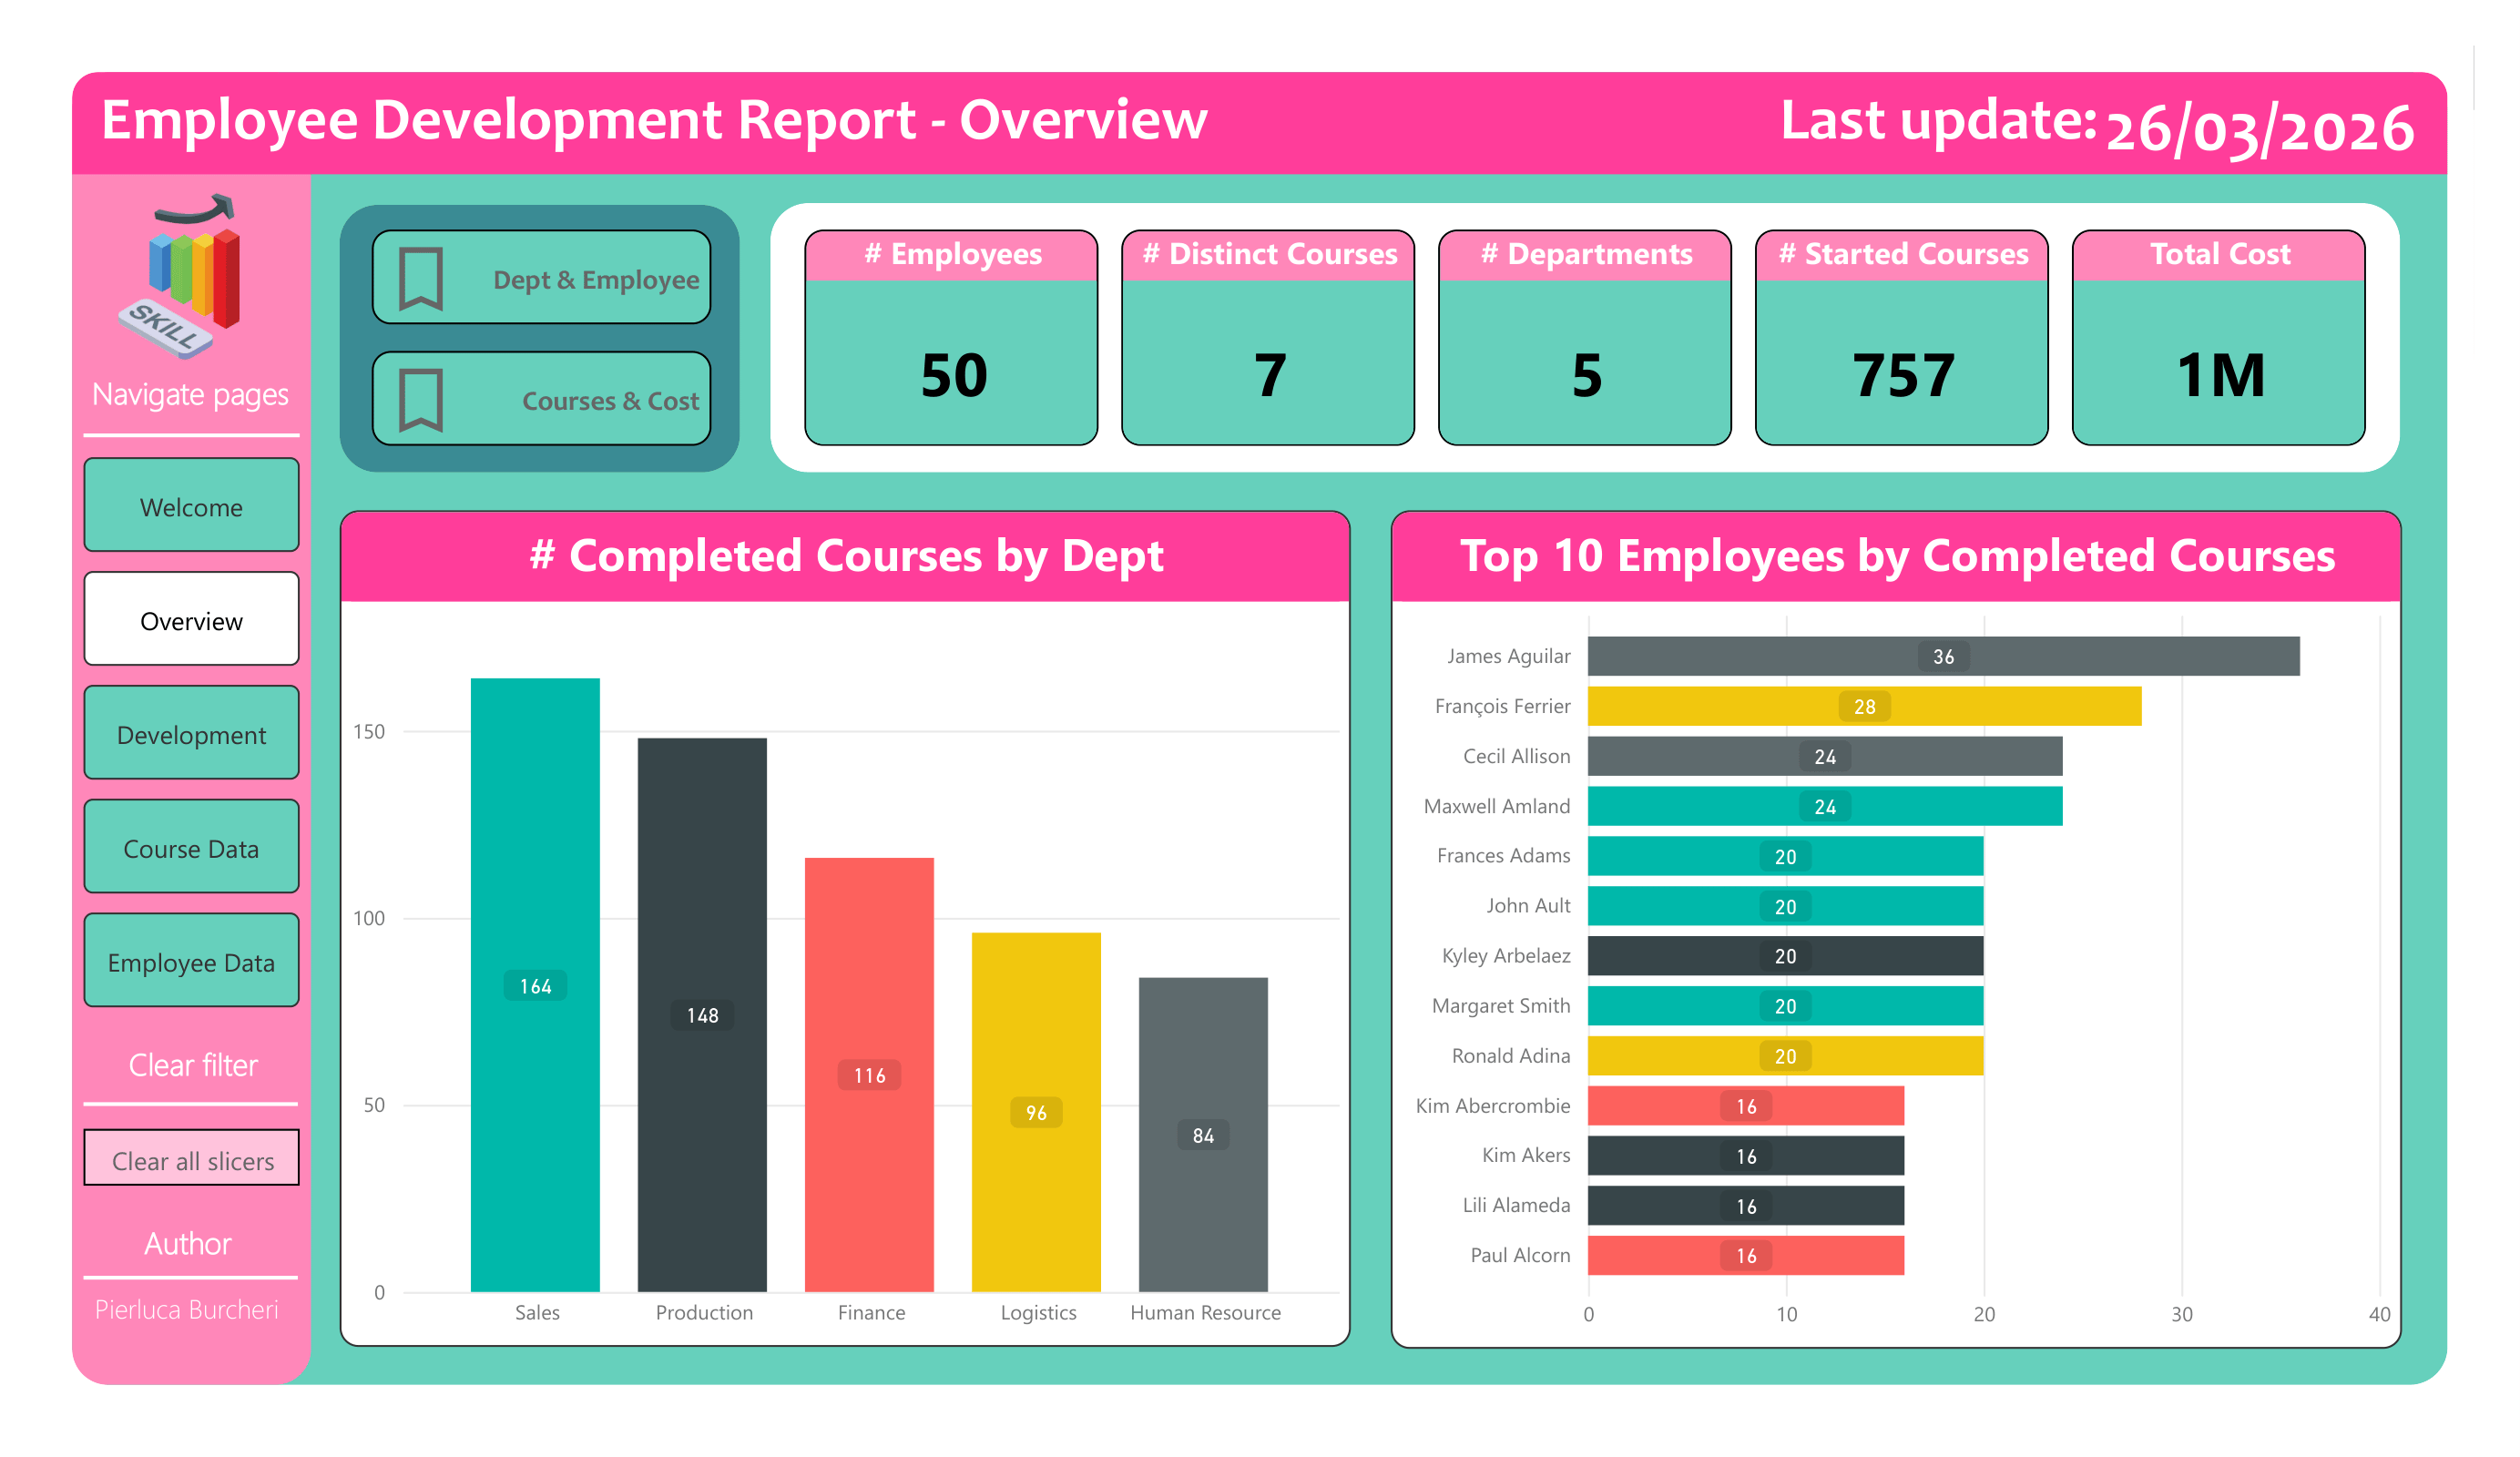

What the dashboard file says about the page in this screenshot:
{"tool":"powerbi","page":{"name":"Overview","canvas":[1280,720],"ordinal":1},"visuals":[{"type":"shape","box":[14.2,14.2,1252.2,691.5],"z":0},{"type":"shape","box":[14.2,14.2,126,691.5],"z":1000},{"type":"image","box":[0,67.7,140.2,107.1],"z":2000},{"type":"columnChart","title":"# Completed Courses by Dept","fields":{"Category":["Employee Data.Dept"],"Series":["Employee Data.Dept"],"Y":["_Measures.# Completed Courses"]},"box":[155.3,244.8,533,440.7],"z":3000},{"type":"shape","box":[14.2,14.2,1252.2,53.6],"z":4000},{"type":"textbox","box":[23.6,14.2,612.7,52],"z":5000},{"type":"pageNavigator","box":[20.5,217.4,113.4,289.8],"z":6000},{"type":"textbox","box":[7.9,167.4,137,31.5],"z":7000},{"type":"shape","box":[20.5,184.7,113.4,41],"z":8000},{"type":"shape","box":[381.9,82.5,859,142.7],"z":9000},{"type":"textbox","box":[909.4,14.2,222.8,52.7],"z":10000},{"type":"card","fields":{"Values":["_Date Master.TODAY"]},"box":[1077.5,14.2,180.3,52.7],"z":11000},{"type":"cardVisual","title":"# Employees","fields":{"Data":["Count(Employee Data.Employee)"]},"box":[399.6,96.8,155.4,114.2],"z":12000},{"type":"group","id":"g1","title":"Group 1","box":[20.5,614.8,113.4,71.9],"z":13000},{"type":"cardVisual","title":"# Distinct Courses","fields":{"Data":["_Measures.# Courses"]},"box":[566.6,96.8,155.4,114.2],"z":14000},{"type":"actionButton","box":[20.5,570.6,113.4,29.9],"z":15000},{"type":"cardVisual","title":"# Departments","fields":{"Data":["_Measures.# Depts"]},"box":[733.7,96.8,155.4,114.2],"z":16000},{"type":"shape","box":[20,537.6,113.4,40.5],"z":18000},{"type":"cardVisual","title":"# Started Courses","fields":{"Data":["_Measures.# Started Courses"]},"box":[900.8,96.8,155.4,114.2],"z":19000},{"type":"shape","box":[155.3,83.9,211,141.3],"z":20000},{"type":"cardVisual","title":"Total Cost","fields":{"Data":["_Measures.Total Cost"]},"box":[1067.8,96.8,155.4,114.2],"z":21000},{"type":"actionButton","box":[172.1,96.5,179.1,50.4],"z":22000},{"type":"actionButton","box":[172.1,160.9,179.1,50.4],"z":23000},{"type":"textbox","box":[7.9,521.4,139.7,38.5],"z":24000},{"type":"barChart","title":"Top 10 Employees by Completed Courses","fields":{"Category":["Employee Data.Employee Name"],"Series":["Employee Data.Dept"],"Y":["_Measures.# Completed Courses"]},"box":[708.9,245.1,532.7,441.5],"z":25000},{"type":"shape","box":[20.5,629,113.4,41],"z":25000,"group":"g1"},{"type":"textbox","box":[31.5,614.8,88.2,37.8],"z":26000,"group":"g1"},{"type":"textbox","box":[20.5,650.5,108.7,36.2],"z":27000,"group":"g1"}]}

Visuals, with their boxes on the page's 1280x720 design canvas (x1, y1, x2, y2). These are canvas units, not pixel positions in the 2520x1457 screenshot, which may show the page scaled, cropped or inside an application window:
shape: box=[14, 14, 1266, 706]
shape: box=[14, 14, 140, 706]
image: box=[0, 68, 140, 175]
"# Completed Courses by Dept" columnChart: box=[155, 245, 688, 686]
shape: box=[14, 14, 1266, 68]
textbox: box=[24, 14, 636, 66]
pageNavigator: box=[20, 217, 134, 507]
textbox: box=[8, 167, 145, 199]
shape: box=[20, 185, 134, 226]
shape: box=[382, 82, 1241, 225]
textbox: box=[909, 14, 1132, 67]
card - _Date Master.TODAY: box=[1078, 14, 1258, 67]
"# Employees" cardVisual: box=[400, 97, 555, 211]
"Group 1" group: box=[20, 615, 134, 687]
"# Distinct Courses" cardVisual: box=[567, 97, 722, 211]
actionButton: box=[20, 571, 134, 600]
"# Departments" cardVisual: box=[734, 97, 889, 211]
shape: box=[20, 538, 133, 578]
"# Started Courses" cardVisual: box=[901, 97, 1056, 211]
shape: box=[155, 84, 366, 225]
"Total Cost" cardVisual: box=[1068, 97, 1223, 211]
actionButton: box=[172, 96, 351, 147]
actionButton: box=[172, 161, 351, 211]
textbox: box=[8, 521, 148, 560]
"Top 10 Employees by Completed Courses" barChart: box=[709, 245, 1242, 687]
shape: box=[20, 629, 134, 670]
textbox: box=[32, 615, 120, 653]
textbox: box=[20, 650, 129, 687]
